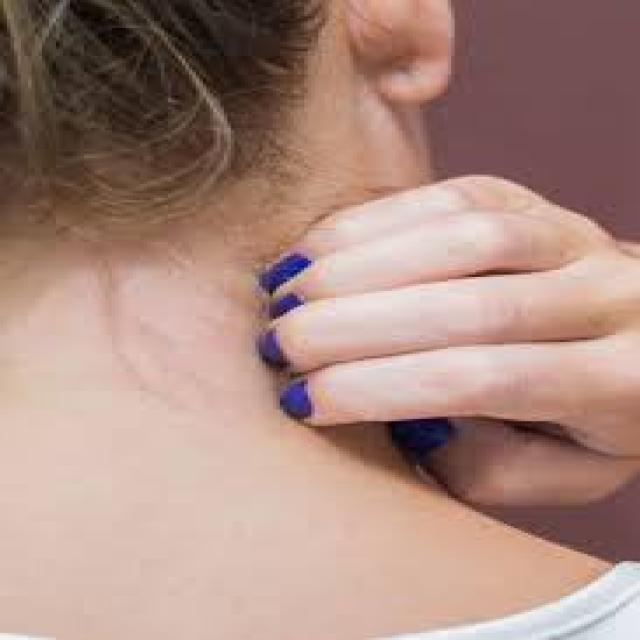Acanthosis Nigricans: (8, 279, 346, 490)
